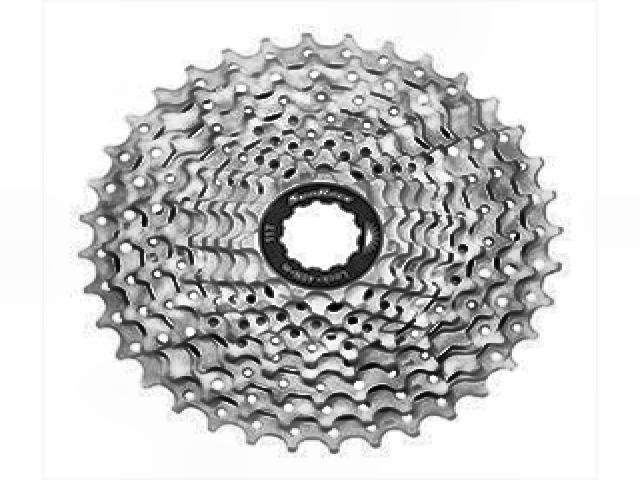cassette: (78, 31, 564, 460)
